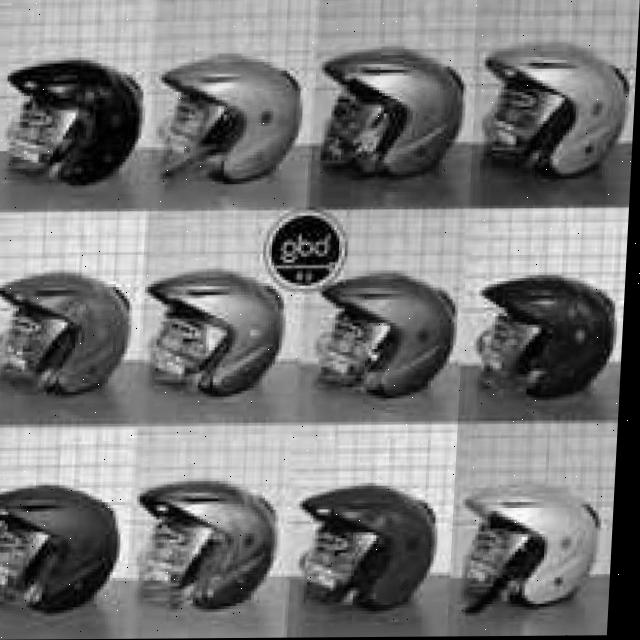Helmet: (0, 50, 625, 190), (0, 478, 611, 615), (0, 279, 621, 397)
